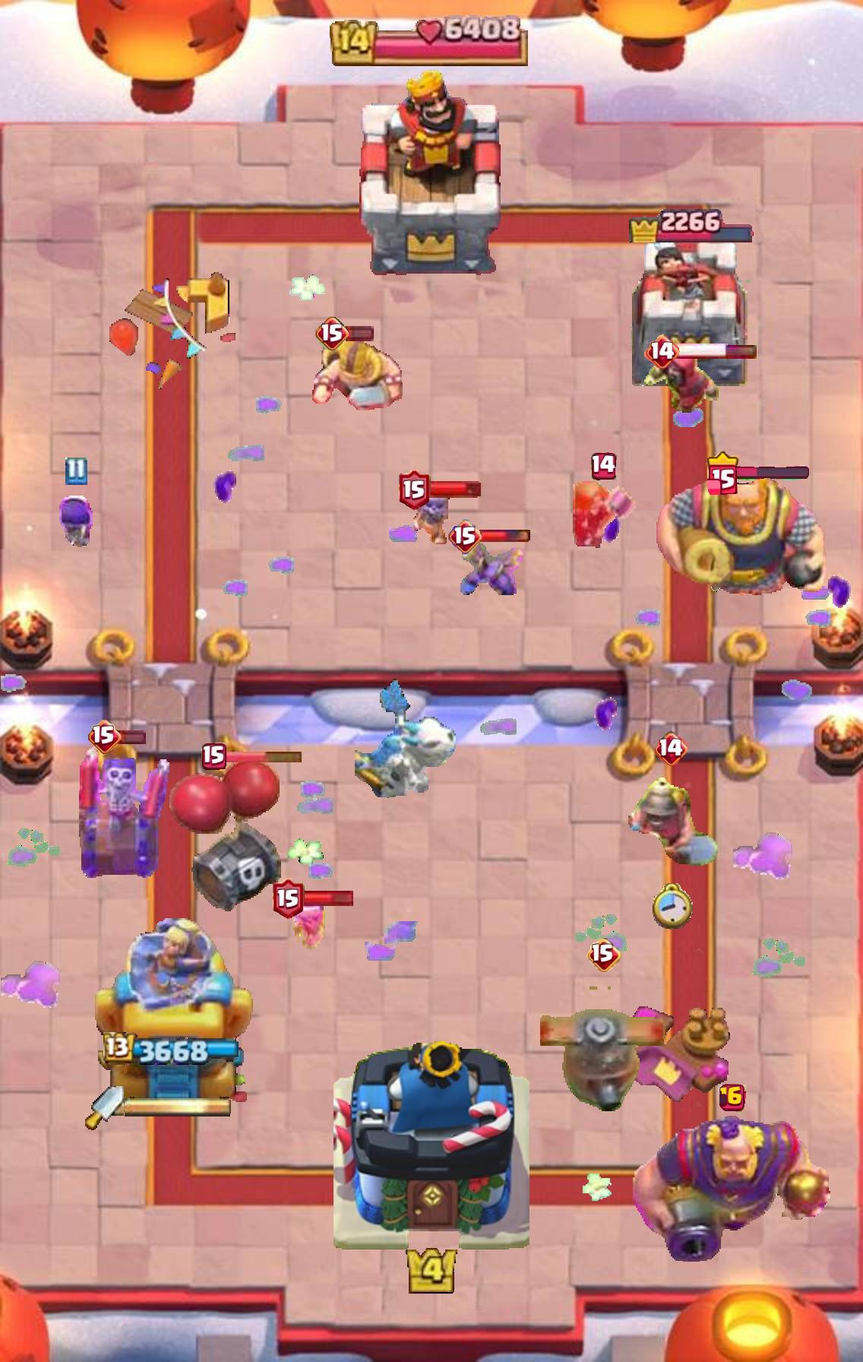skeleton-evolution: (57, 493, 95, 548)
